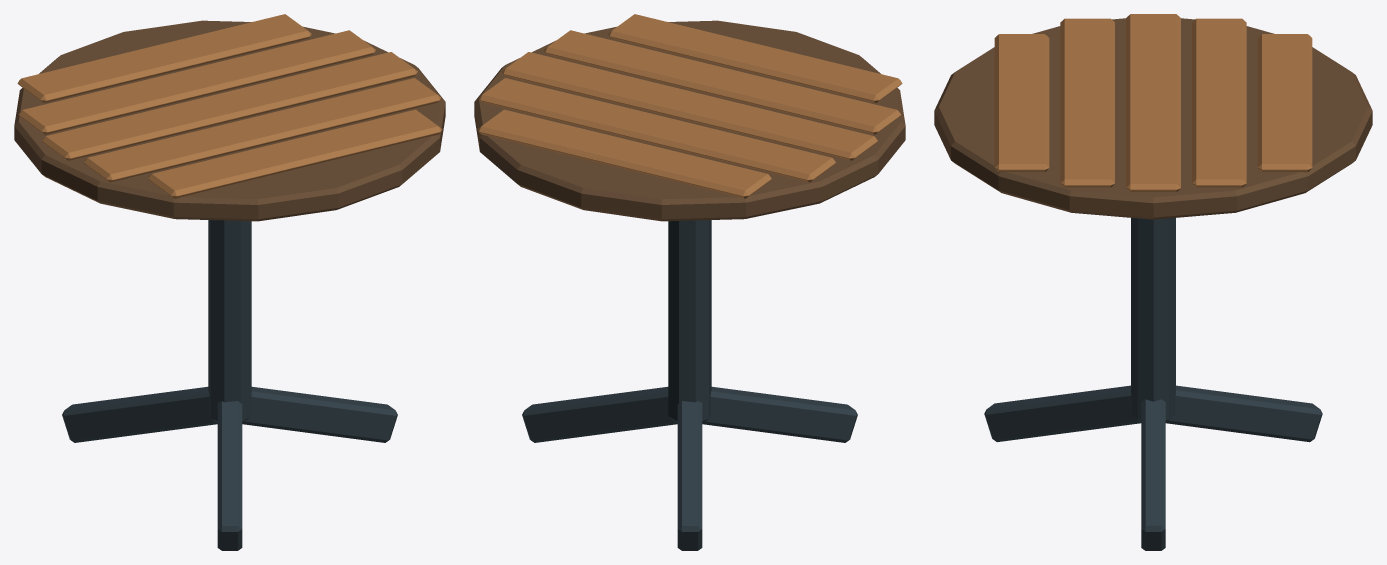
The model's file is b10_round_bistro_pedestal_table.glb.
The picture shows the model from 3 angles, left to right: view 1: azimuth 30°, elevation 25°; view 2: azimuth 150°, elevation 25°; view 3: azimuth 270°, elevation 25°; orthographic projection.
Visible parts, largest first — view 1: b10_round_bistro_pedestal_table; view 2: b10_round_bistro_pedestal_table; view 3: b10_round_bistro_pedestal_table.
Part boxes in pixels (x1,y1,x2,y2): b10_round_bistro_pedestal_table: [14, 14, 445, 550]; b10_round_bistro_pedestal_table: [474, 14, 905, 550]; b10_round_bistro_pedestal_table: [934, 14, 1372, 550].
Size of the model in its own units: 0.8 by 0.7604 by 0.8.
